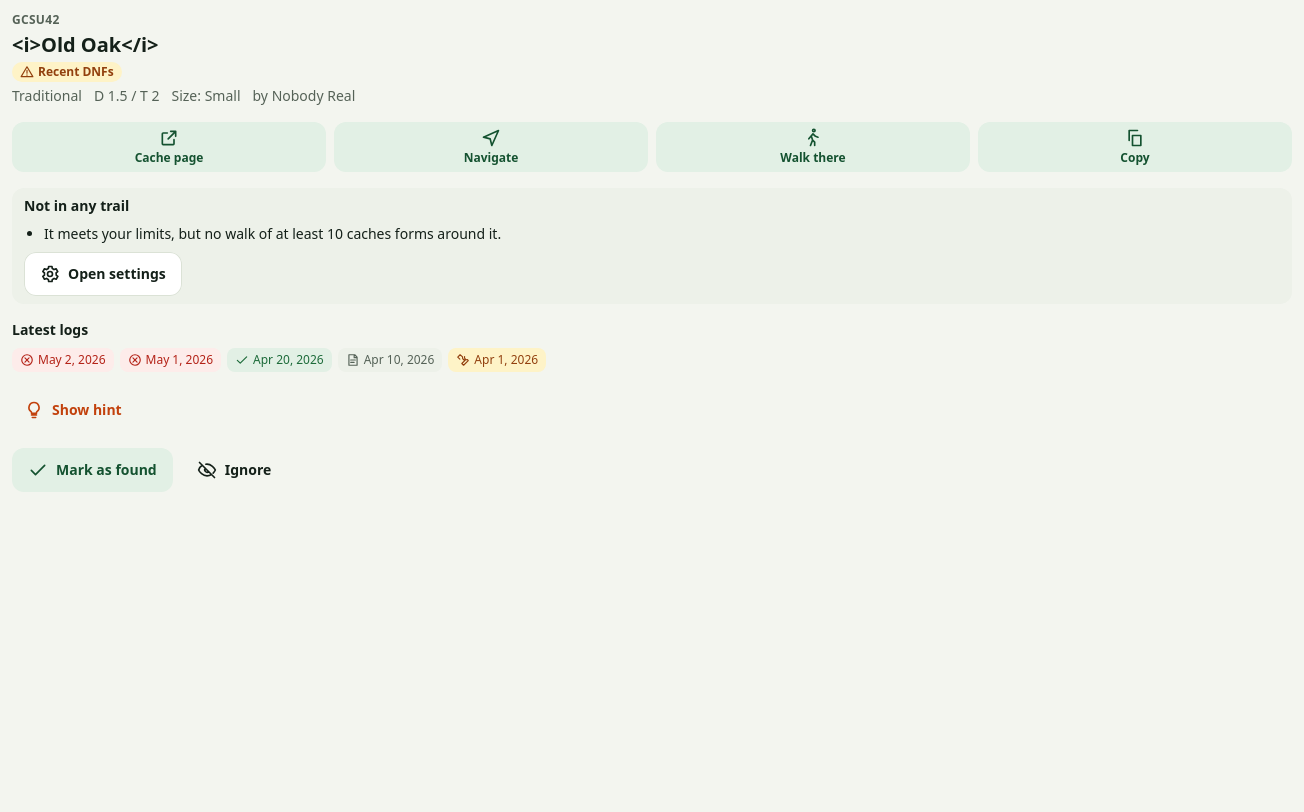
Test: CacheDetails › copies the coordinates as geocachers write them and confirms it
Click the button with aria-label "Copy coordinates N 48° 08.123′ E 011° 34.567′" at coordinates (1135, 147), box [978, 122, 1292, 172]
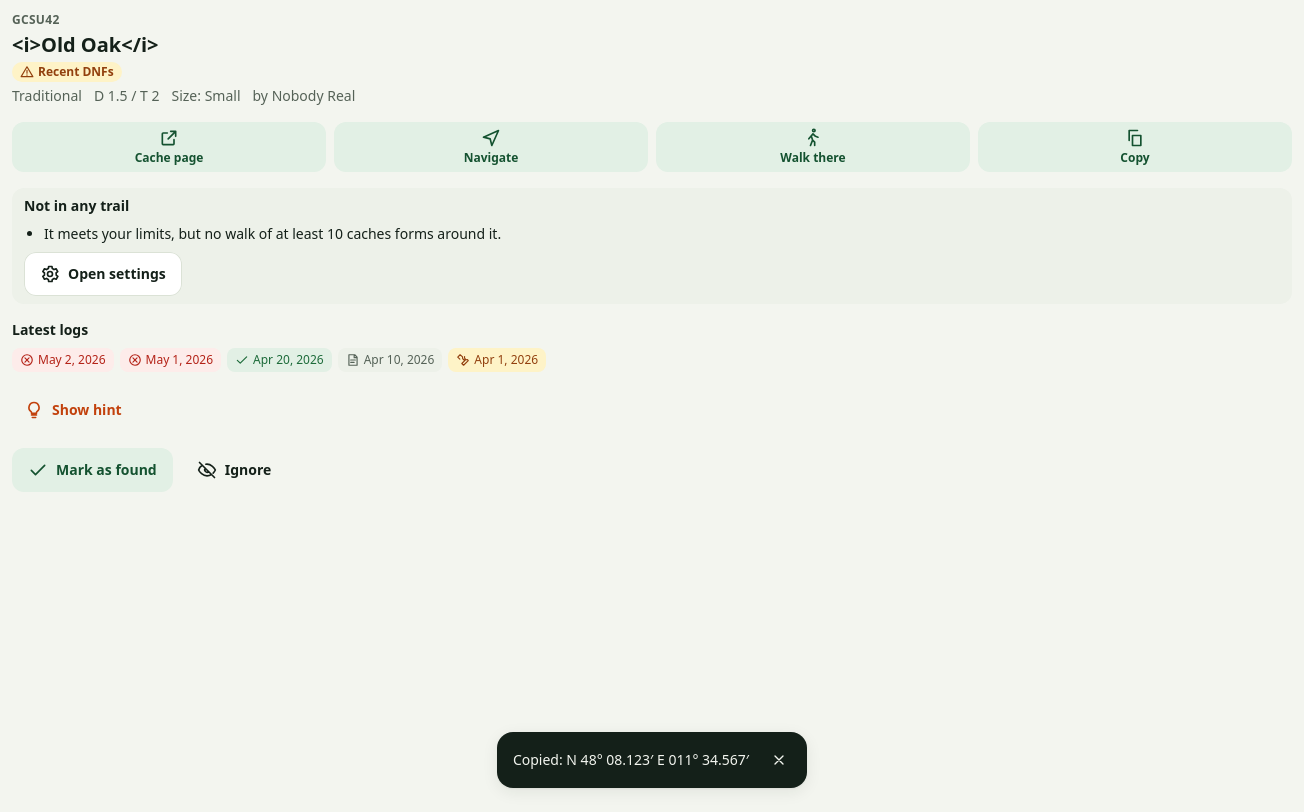
expect the element with test id "toast" reads "Copied: N 48° 08.123′ E 011° 34.567′": met, box [513, 750, 749, 769]
